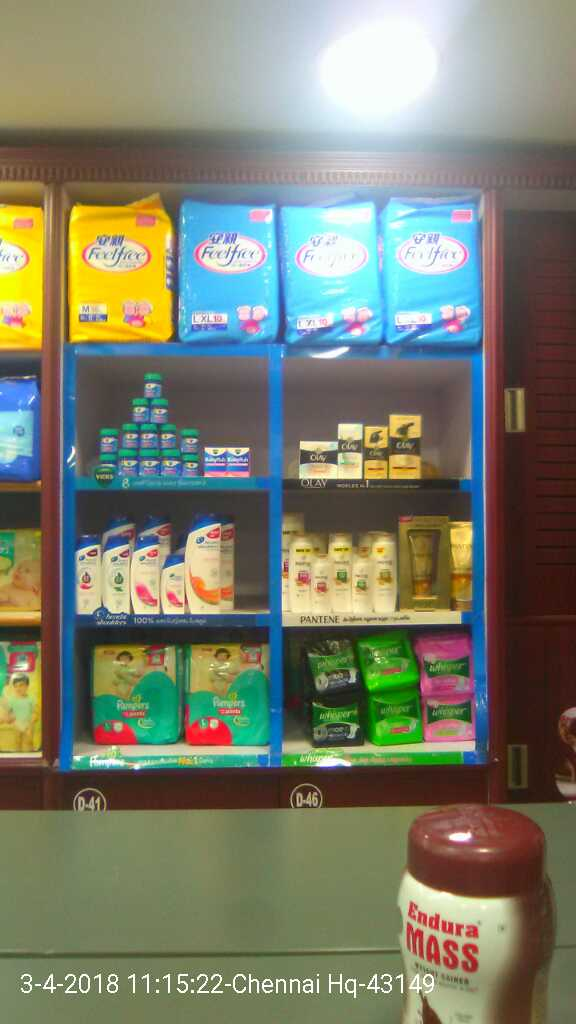vicks: (92, 364, 253, 476)
